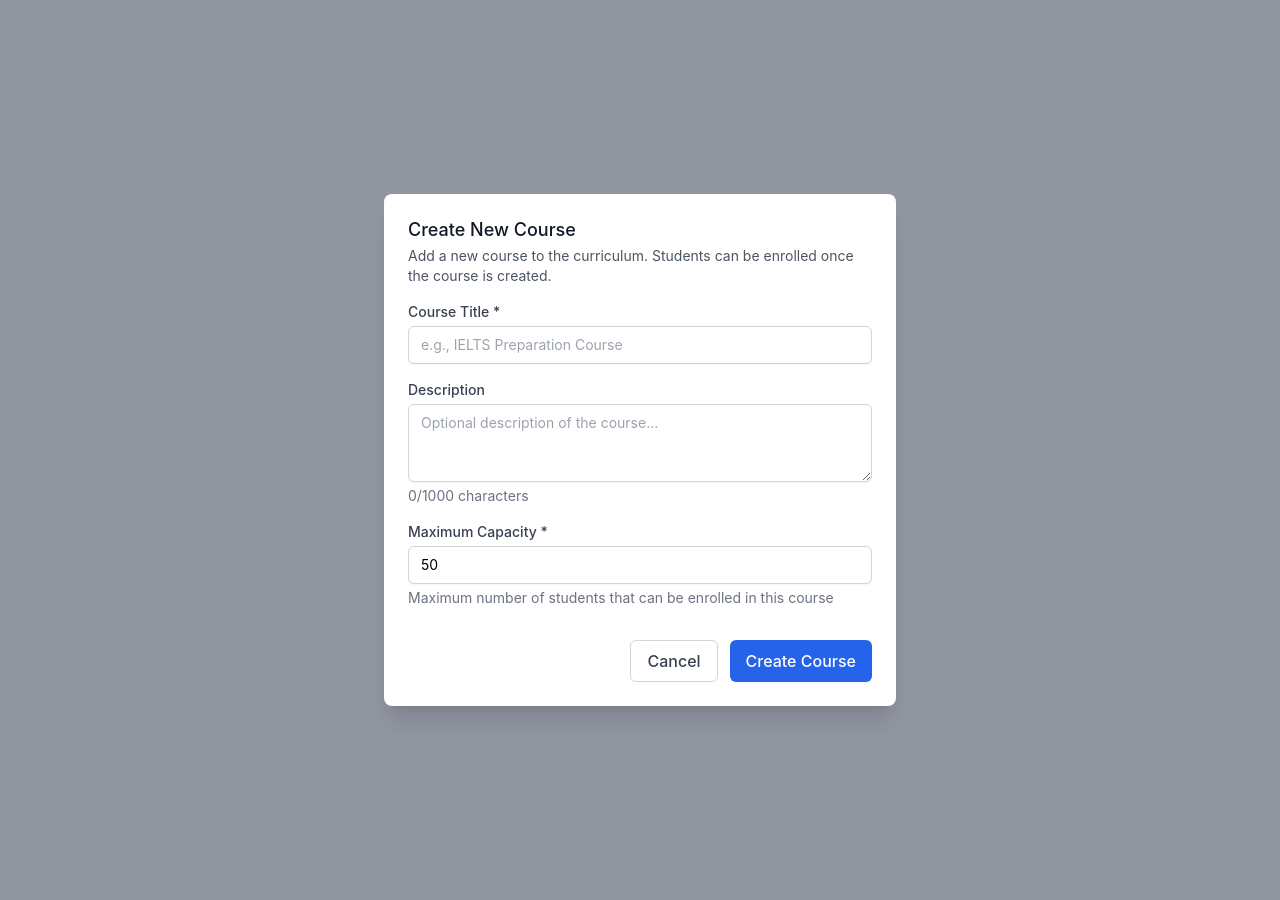
Test: CourseForm › shows loading state during submission
The width and height of the screenshot is (1280, 900).
Step 1. Type "Test Course" into the field labelled "Course Title *" → (640, 345), box [408,326,872,364]
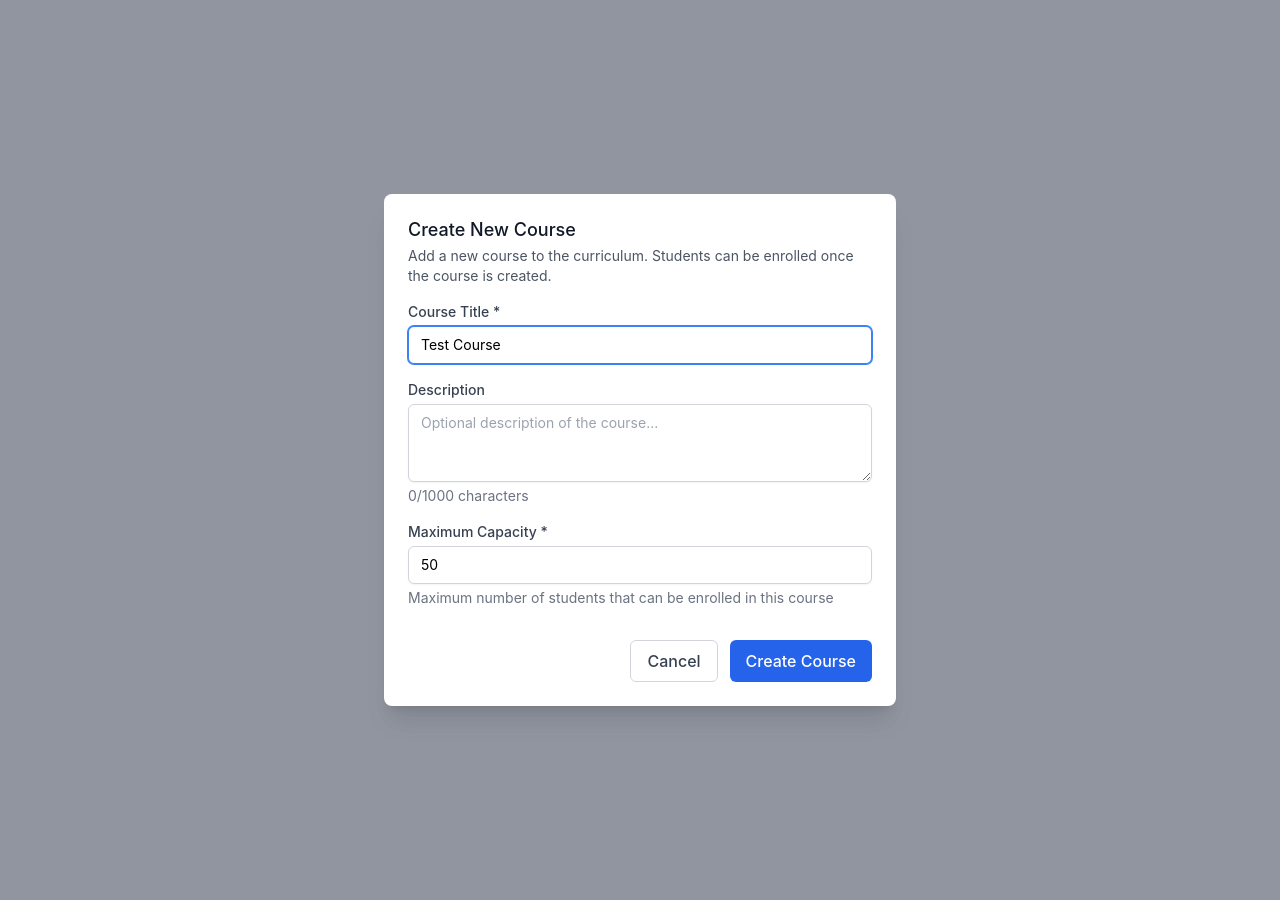
Step 2. Click the button "Create Course" → (801, 661), box [730,640,872,682]
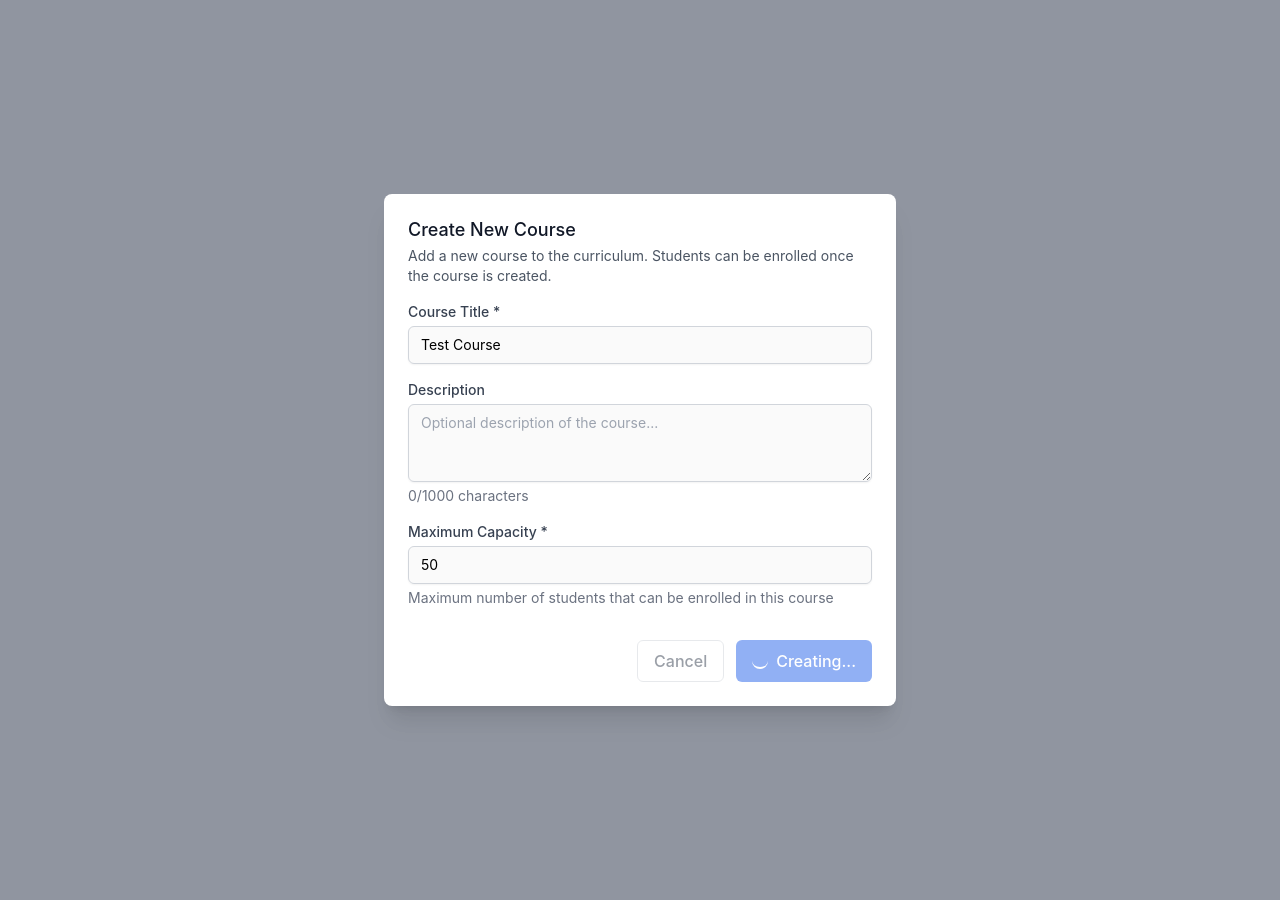
Expected: the text "Creating..." is shown, [752,649,856,673]
Expected: the button named "create course" is disabled, [736,640,872,682]
